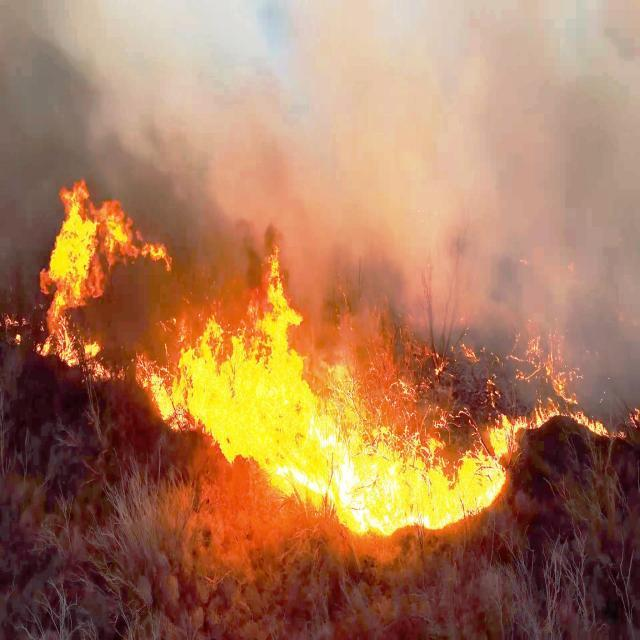Fire: (156, 245, 310, 447), (273, 375, 419, 536), (2, 312, 157, 401), (404, 404, 508, 534), (42, 174, 126, 316), (509, 376, 640, 456)
Smoke: (170, 0, 640, 256), (0, 0, 166, 136)
